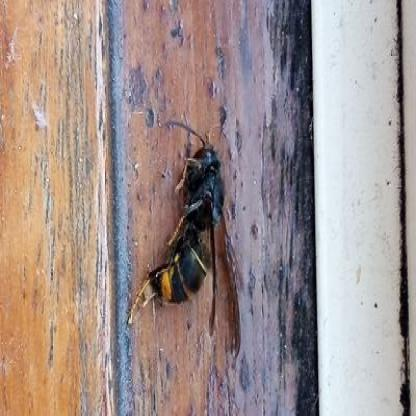Asian Hornet: (126, 131, 232, 332)
